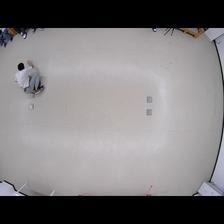fall: (13, 60, 46, 96)
